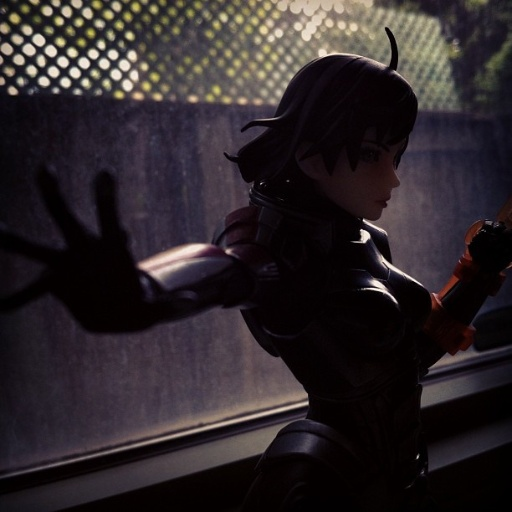hand: (13, 160, 187, 335), (461, 218, 510, 278)
